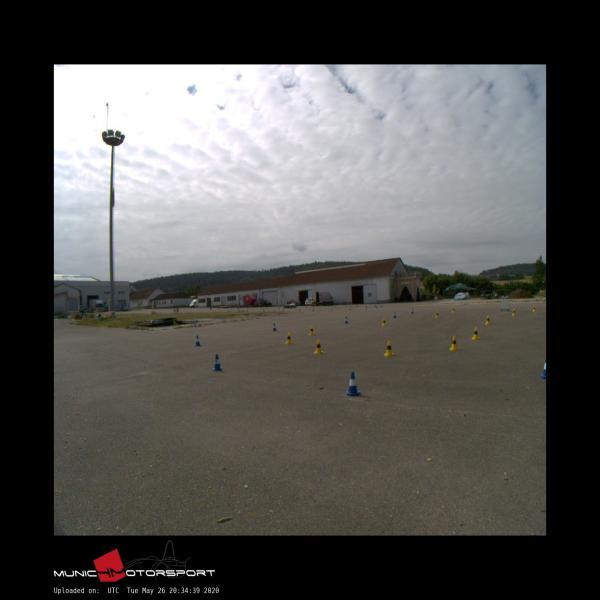blue_cone: (345, 372, 360, 396), (212, 354, 222, 370), (540, 358, 546, 379), (194, 335, 200, 346), (273, 323, 277, 331), (344, 316, 348, 324), (392, 311, 396, 318), (411, 308, 414, 314), (502, 294, 504, 298), (506, 294, 508, 298)
yellow_cone: (383, 341, 394, 355), (449, 335, 459, 350), (314, 339, 323, 353), (470, 327, 479, 339), (286, 332, 292, 344), (309, 325, 315, 335), (381, 317, 387, 326), (485, 315, 490, 324), (435, 311, 439, 318), (512, 309, 516, 316), (532, 305, 536, 312), (452, 307, 455, 313)
